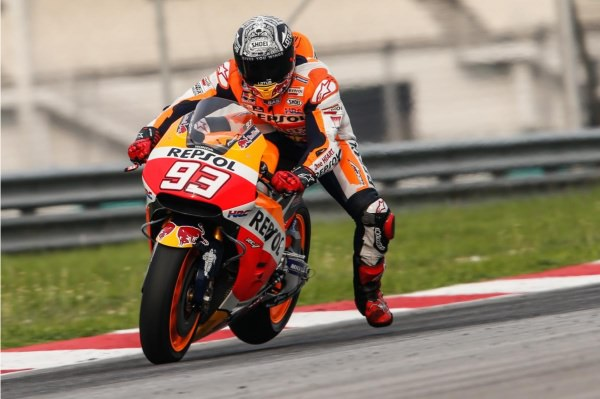helmet: (233, 15, 295, 100)
motorcycle: (124, 95, 313, 370)
